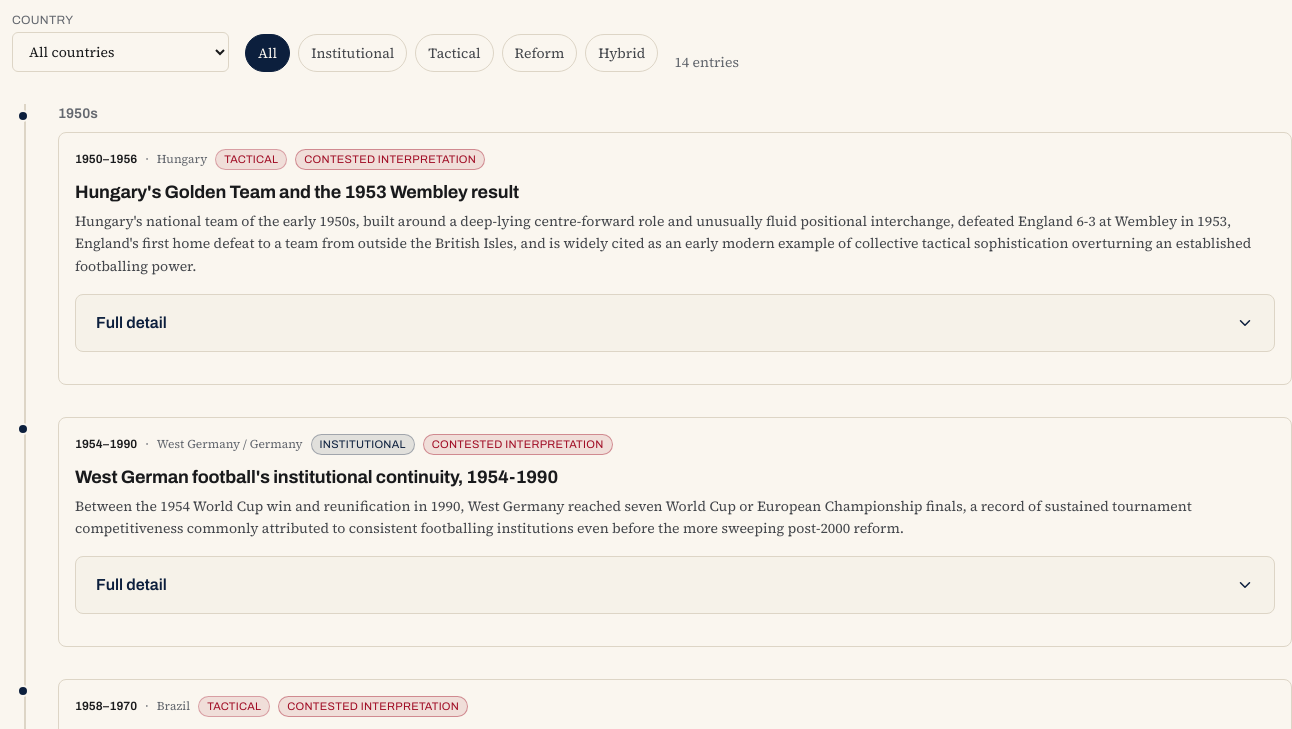
Test: Timeline › resets to all entries via the All button
Select "Hungary" in the dropdown labelled "Country": (120, 52) [12, 32, 229, 72]
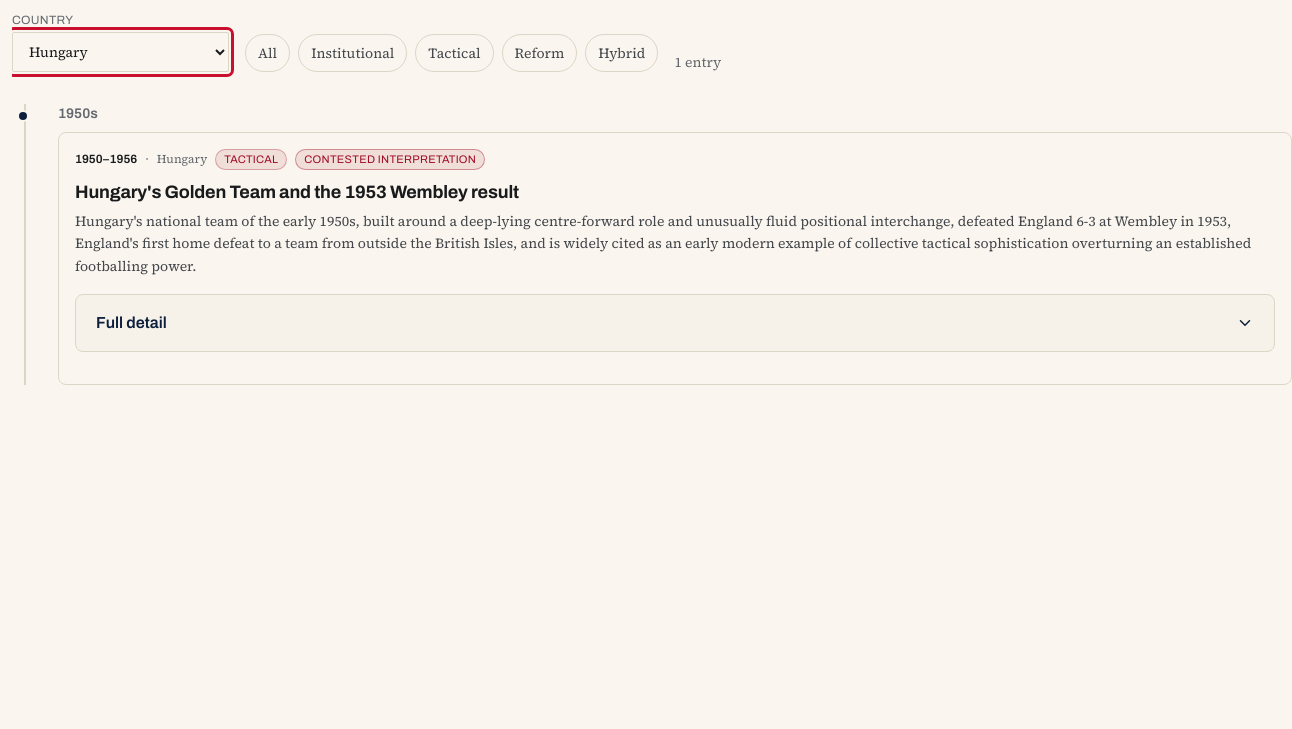
Click the button "All": (268, 53) [245, 34, 290, 72]
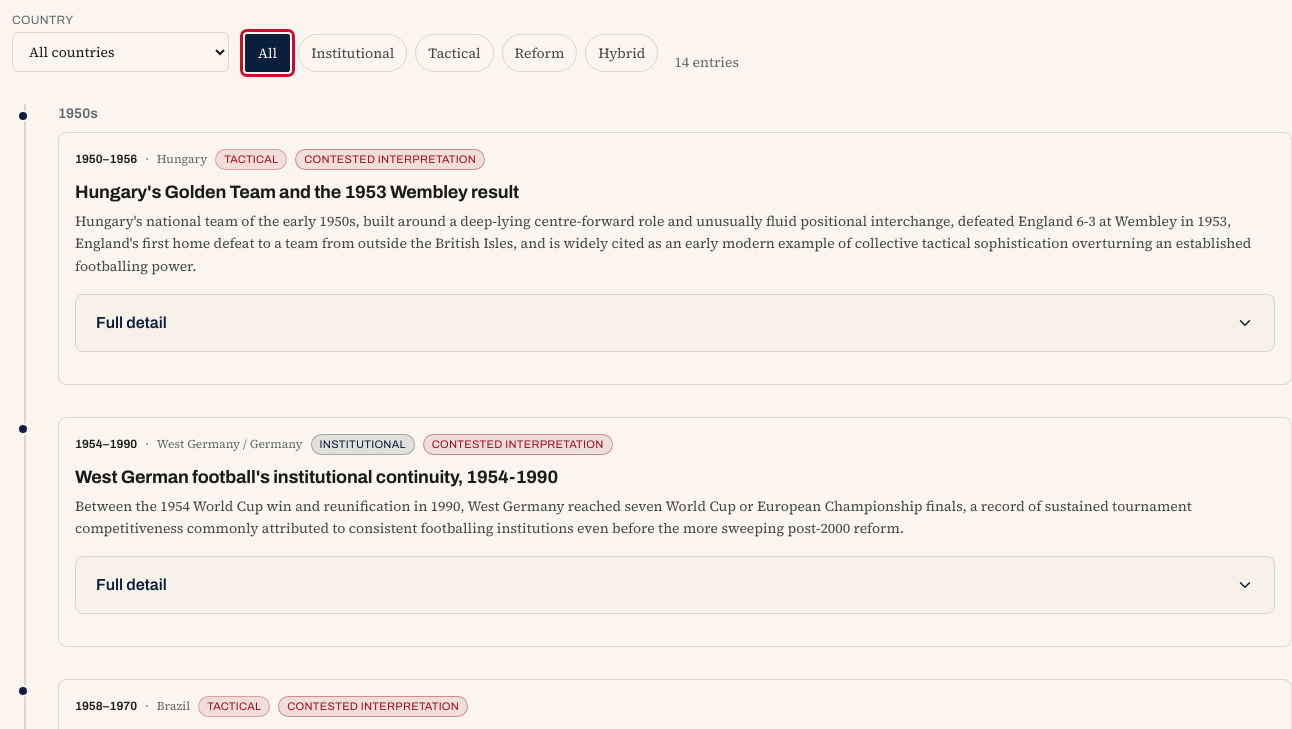
Check: the number of elements with test id "timeline-entry" is 14
